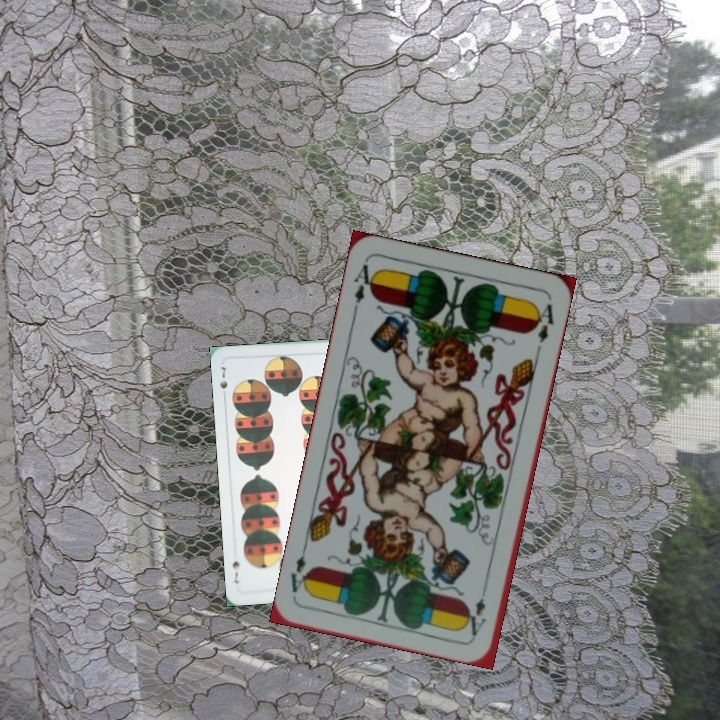EA: (348, 260, 379, 317), (466, 594, 490, 639)
S7: (215, 363, 230, 391)
